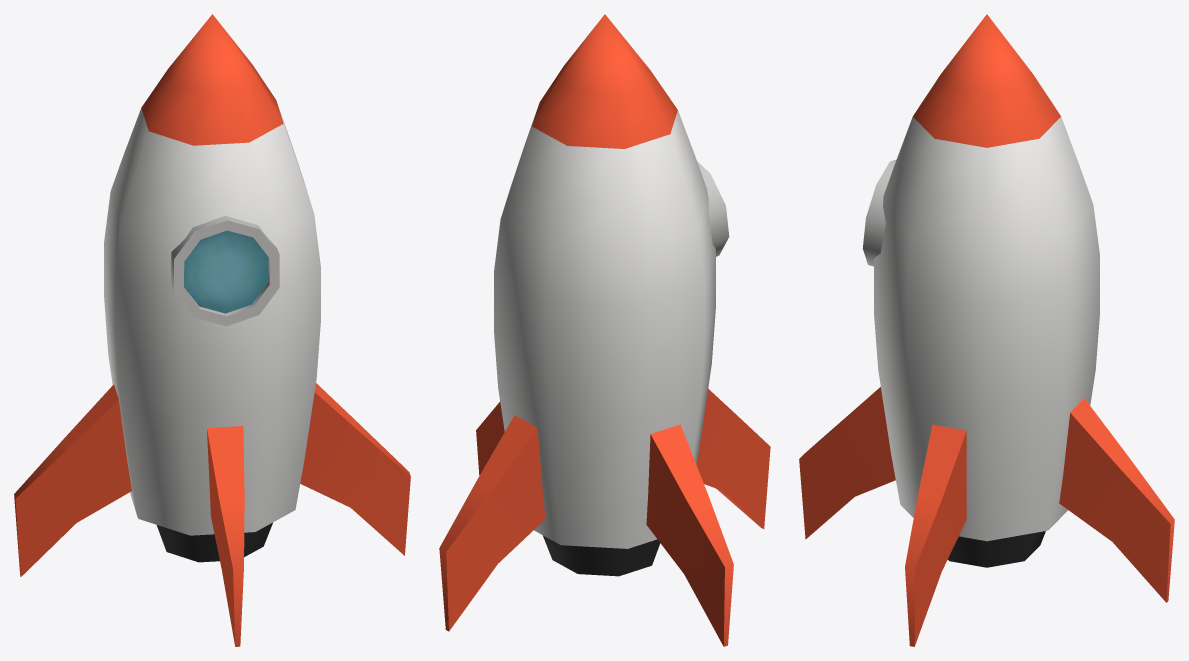
The model's file is 8-rocket.glb.
3 views of the same model, side by side, from view 1: azimuth 30°, elevation 25°; view 2: azimuth 150°, elevation 25°; view 3: azimuth 270°, elevation 25° (orthographic). The views are drawn at different scales.
Visible parts, largest first — view 1: rocket.001; view 2: rocket.001; view 3: rocket.001.
Part boxes in pixels (x1,y1,x2,y2): rocket.001: [14, 14, 410, 646]; rocket.001: [439, 14, 770, 646]; rocket.001: [799, 14, 1174, 646].
Size of the model in its own units: 8 by 13.07 by 8.
Materials: 1 (1 with a texture image).
